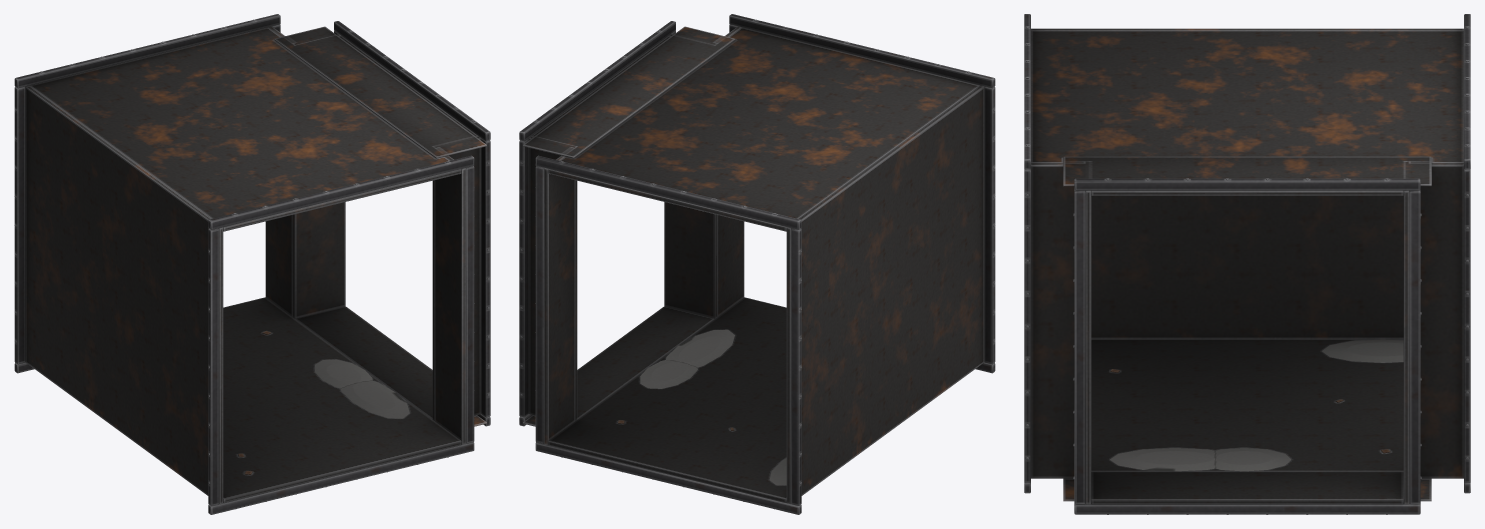
The model's file is DuctTee.fbx.
3 views of the same model, side by side, from view 1: azimuth 30°, elevation 25°; view 2: azimuth 150°, elevation 25°; view 3: azimuth 270°, elevation 25° (orthographic). The views are drawn at different scales.
Visible parts, largest first — view 1: DuctTee; view 2: DuctTee; view 3: DuctTee.
Boxes of the visible parts, left/top/right/bottom form: DuctTee: left=14, top=14, right=490, bottom=514; DuctTee: left=519, top=14, right=995, bottom=514; DuctTee: left=1024, top=14, right=1470, bottom=514.
Size of the model in its own units: 712 by 665 by 800.
